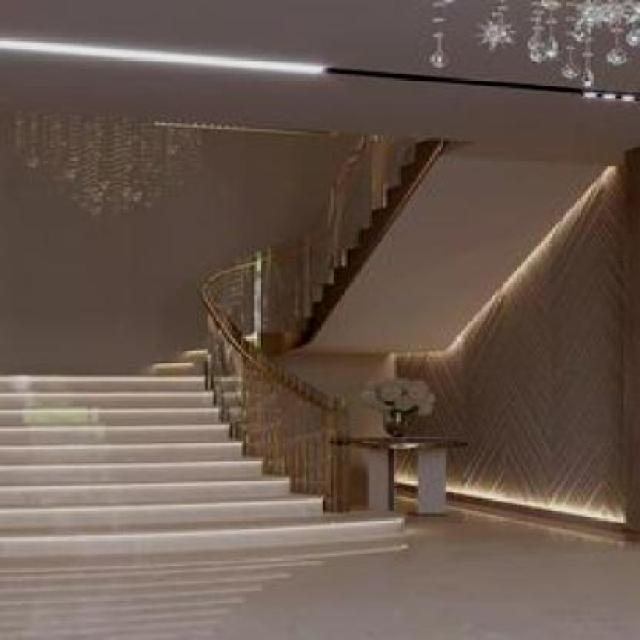stair: (1, 346, 442, 552)
